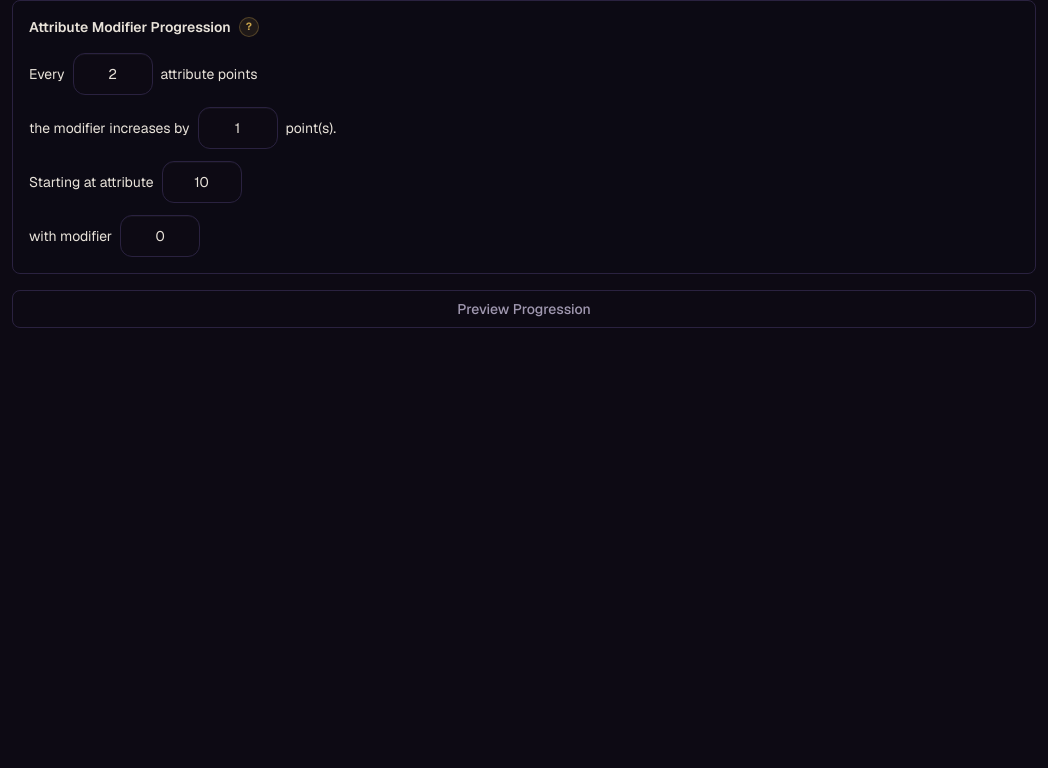
AttributeModifierConfig component › renders progression preview when toggled
The width and height of the screenshot is (1048, 768).
Expected: the heading "Attribute Modifier Progression" is shown, [29, 17, 231, 37]
Step 1. Click the button "Preview Progression" → (524, 309), box [12, 290, 1036, 328]
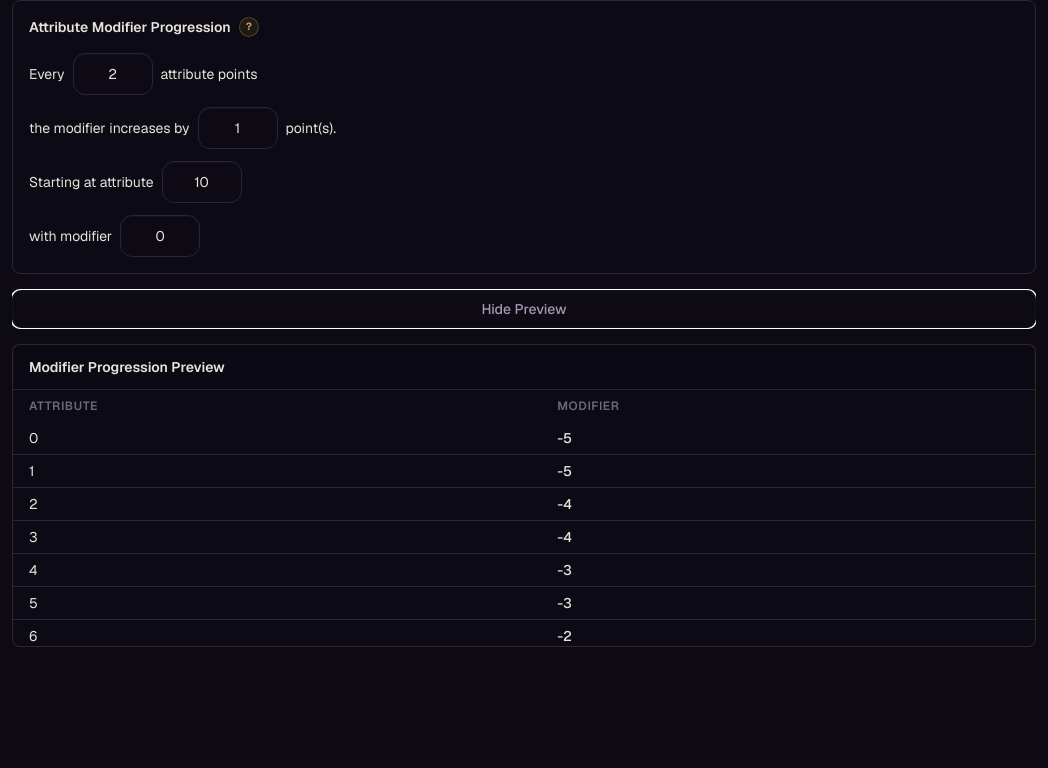
Expected: the heading "Modifier Progression Preview" is shown, [29, 358, 225, 376]
Note: Click again to hide
Step 2. Click the button "Hide Preview" → (524, 309), box [12, 290, 1036, 328]
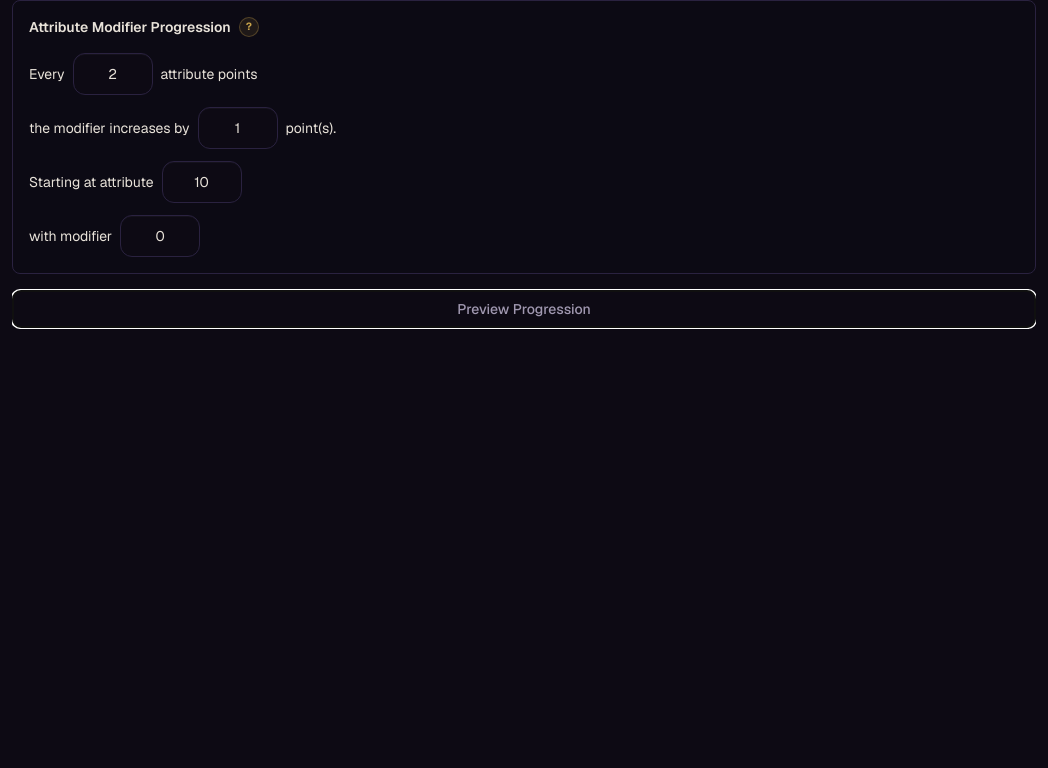
Expected: the heading "Modifier Progression Preview" is gone
